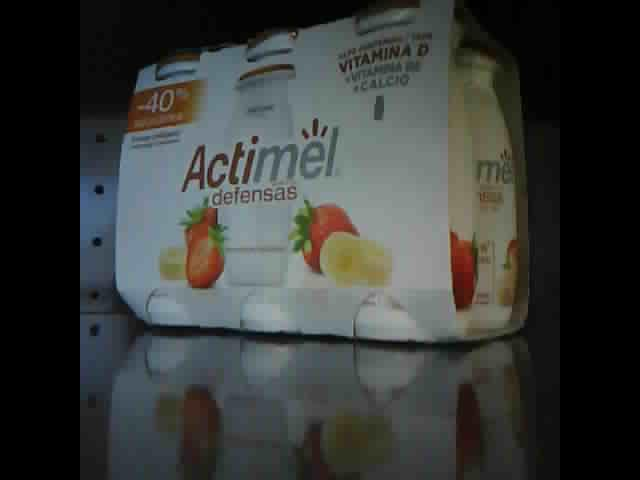actimel: (114, 3, 531, 349)
